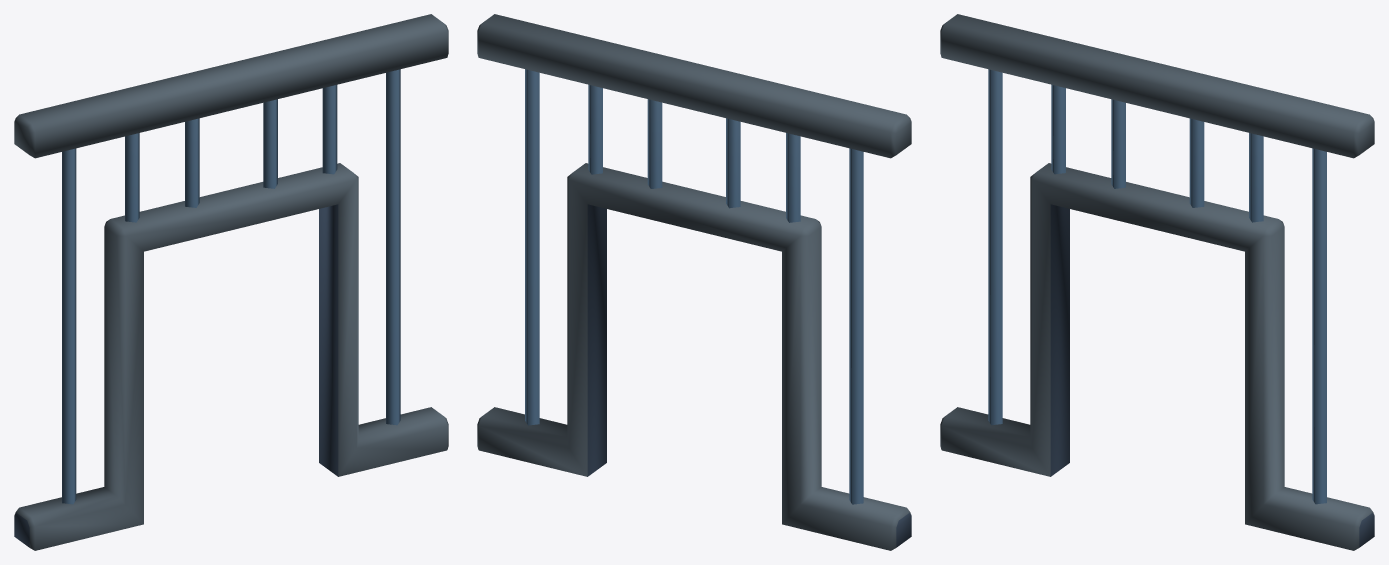
File: lattice1.fbx
The picture shows the model from 3 angles, left to right: view 1: azimuth 30°, elevation 25°; view 2: azimuth 150°, elevation 25°; view 3: azimuth 330°, elevation 25°; orthographic projection.
Parts seen in each view (by area): view 1: lattice1; view 2: lattice1; view 3: lattice1.
Boxes of the visible parts, x1,y1,x2,y2 form: lattice1: (14, 14, 448, 550); lattice1: (477, 14, 911, 550); lattice1: (940, 14, 1374, 550).
Bounding box in the file's own units: 200 × 193 × 16.06.
Materials: 1 (1 with a texture image).
